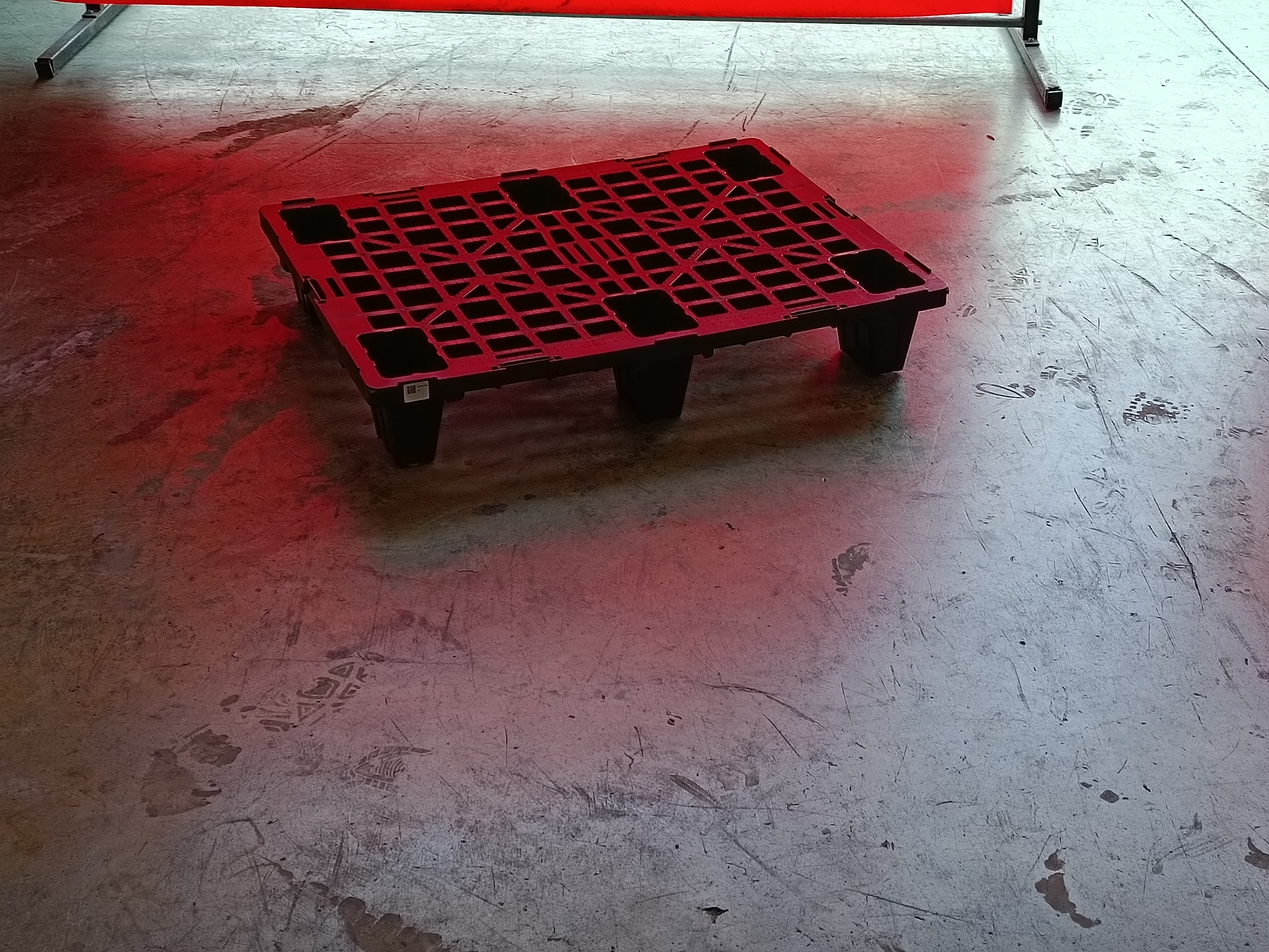block: (615, 337, 700, 426), (834, 294, 929, 365), (372, 382, 449, 467)
front: (377, 288, 956, 466)
hole pallet: (431, 368, 622, 465), (677, 315, 849, 411)
